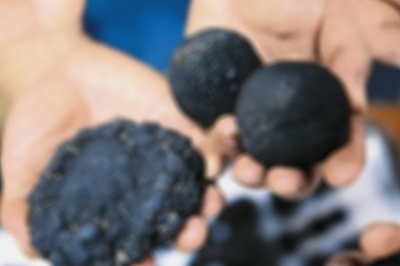halobolite: (1, 81, 237, 266), (243, 58, 351, 175), (160, 30, 254, 125)
